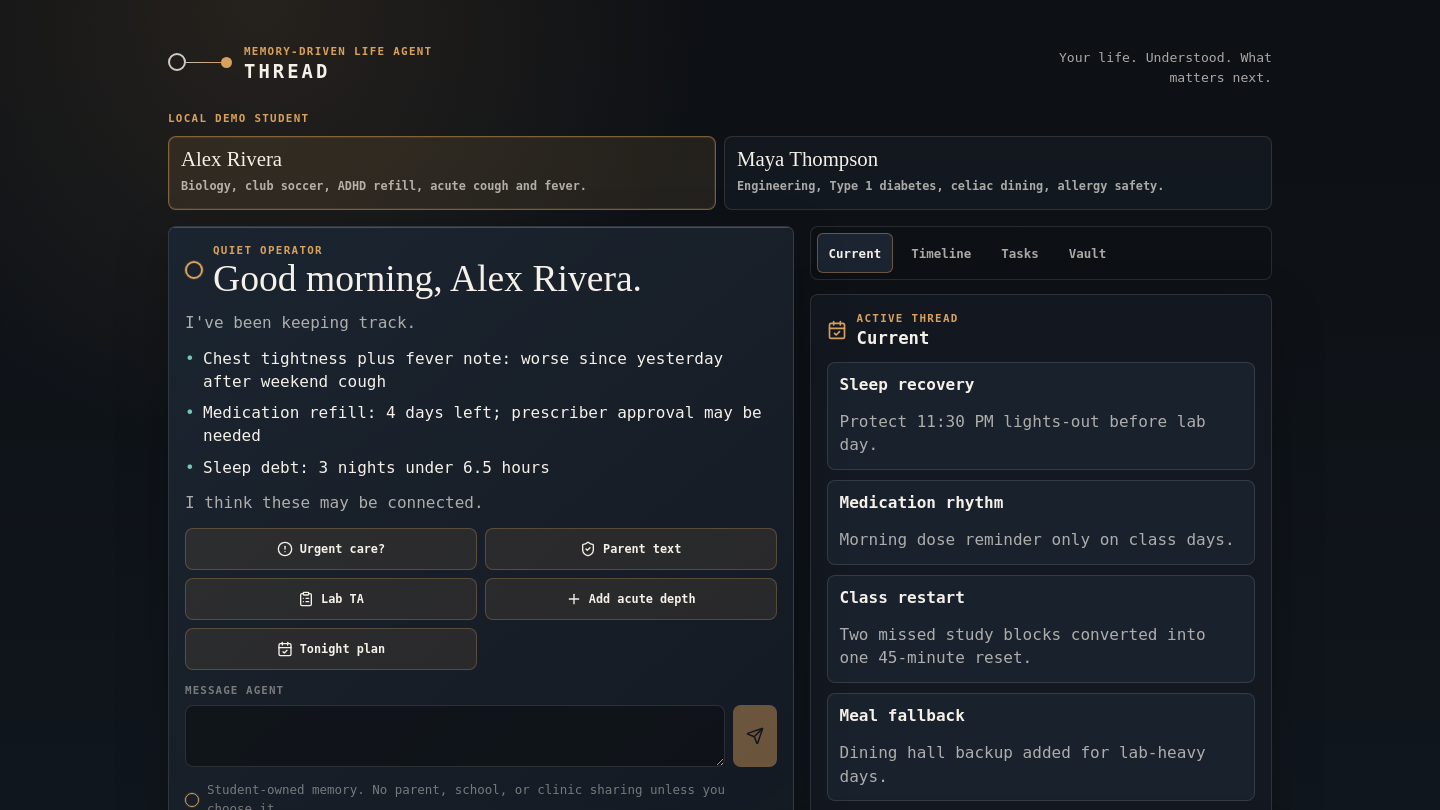
it: THREAD app shell › lets the student message the agent from the default mobile surface
This screenshot has width=1440, height=810.
Type "I have chest tightness and fever" into the text box labelled "Message agent" at (455, 736), box 185,705 -> 725,767
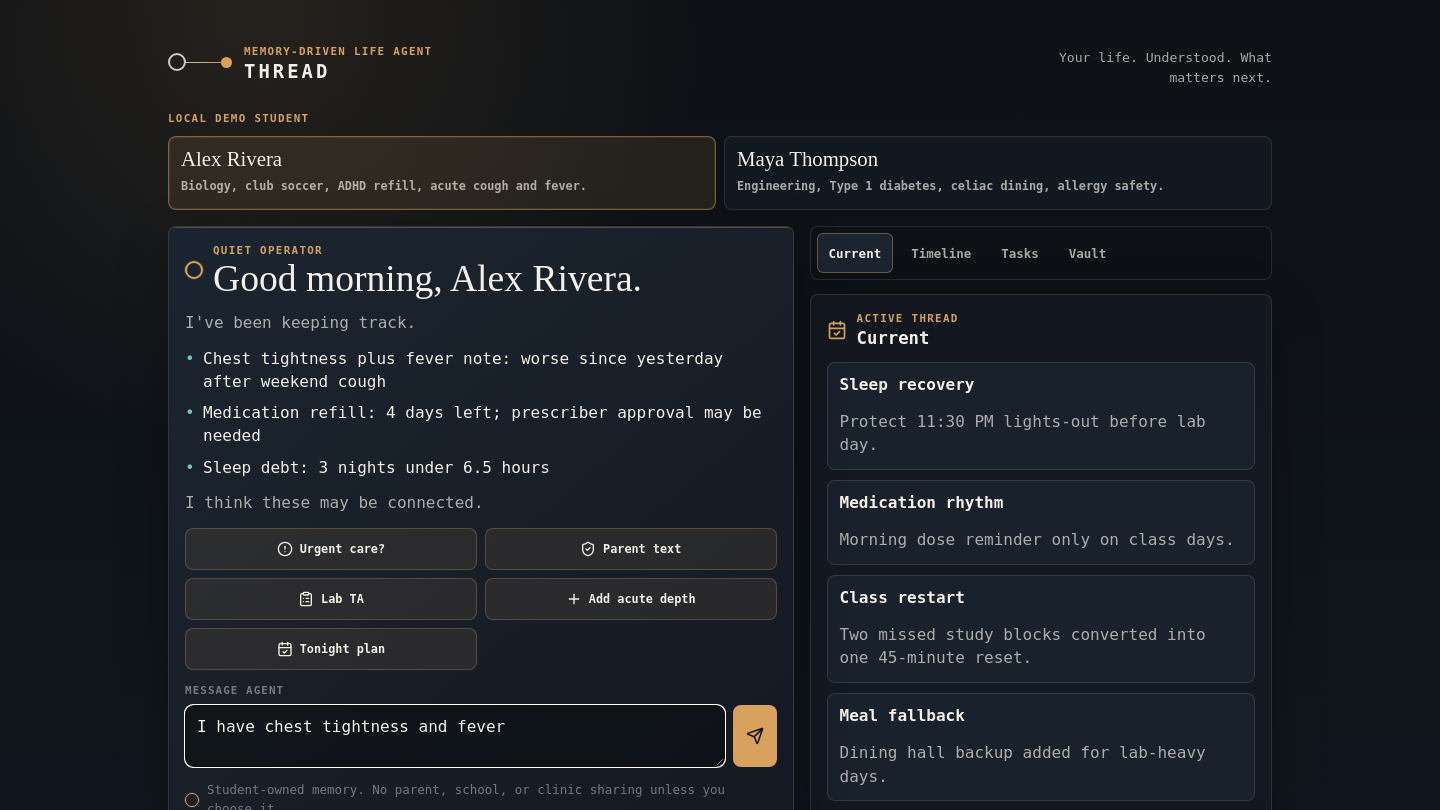
Click the button named "send to agent" at (755, 736), box 733,705 -> 777,767
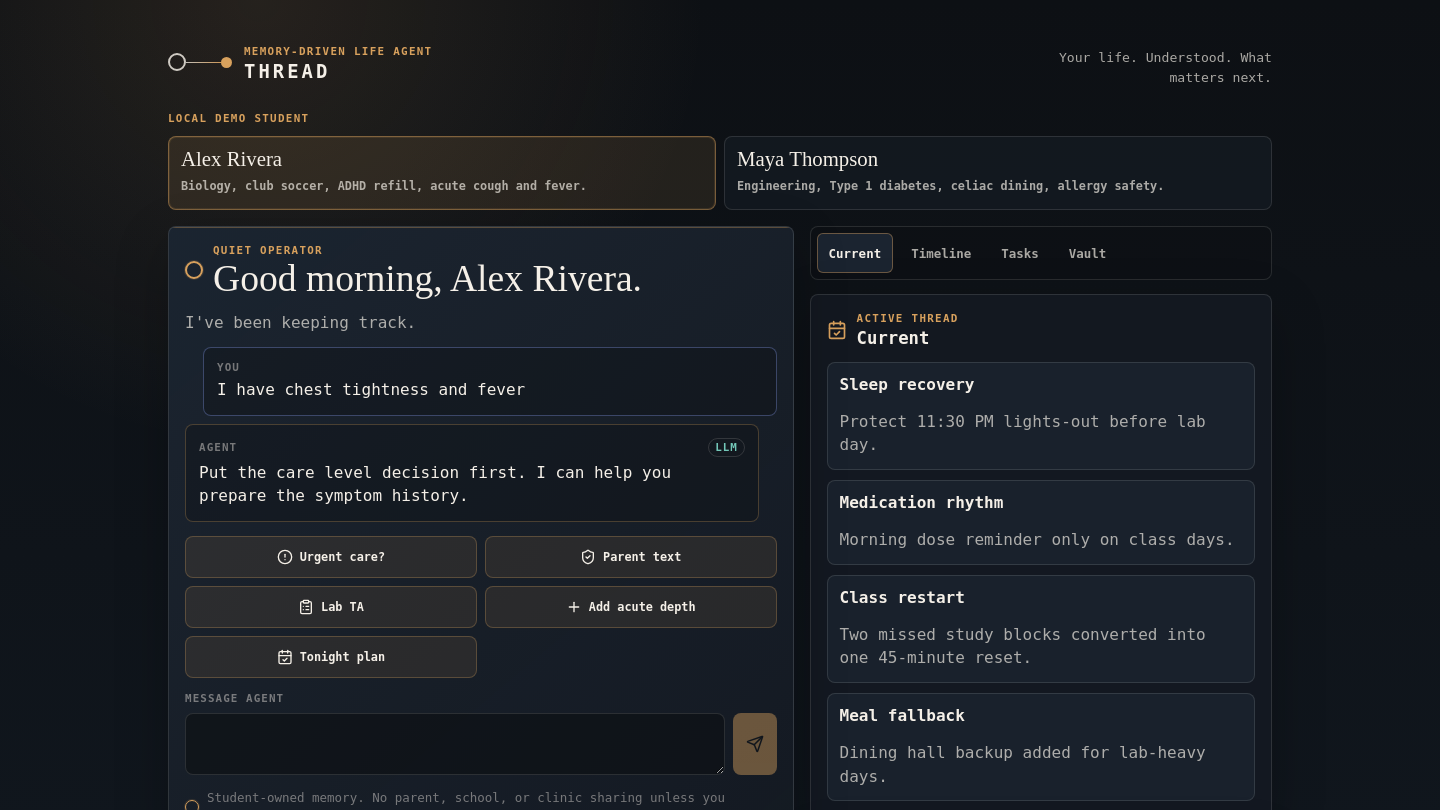
expect the text "Put the care level decision first" is shown: met, box 199,462 -> 671,505
expect the text "llm" is shown: met, box 708,438 -> 745,456
